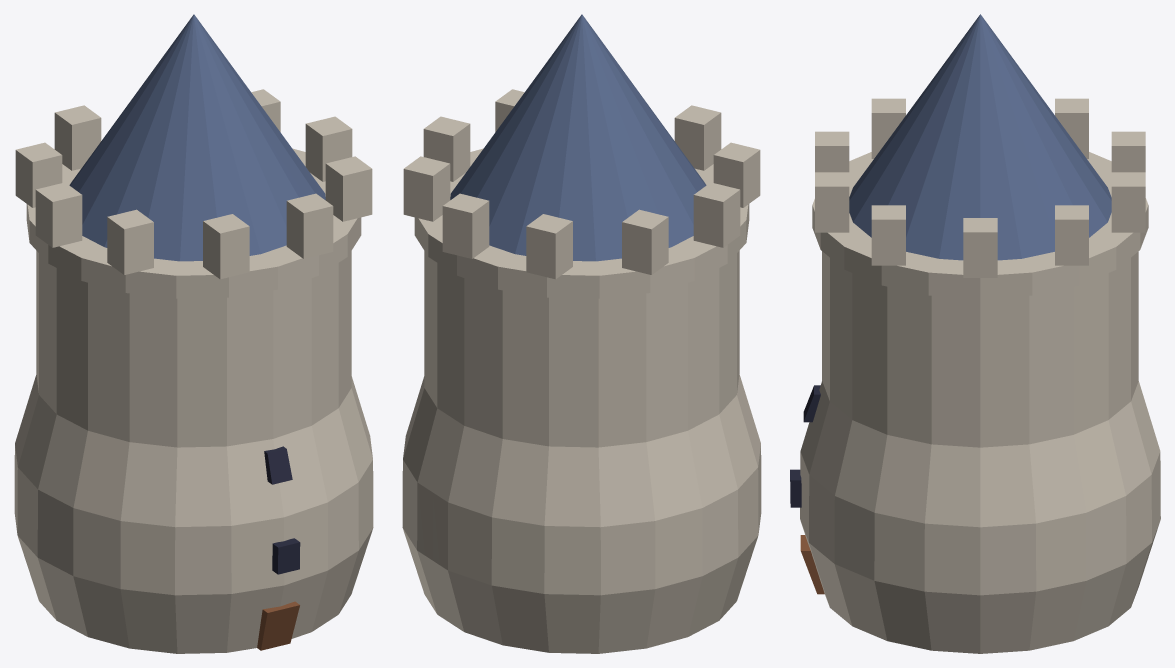
The model's file is round_tower.glb.
The picture shows the model from 3 angles, left to right: view 1: azimuth 30°, elevation 25°; view 2: azimuth 150°, elevation 25°; view 3: azimuth 270°, elevation 25°; orthographic projection.
Visible parts, largest first — view 1: round_tower_stone, round_tower_roof_slate, round_tower_black, round_tower_door; view 2: round_tower_stone, round_tower_roof_slate; view 3: round_tower_stone, round_tower_roof_slate, round_tower_black, round_tower_door.
Part boxes in pixels (box(x1,y1,x2,y2)): round_tower_stone: box(14, 89, 373, 653); round_tower_roof_slate: box(69, 14, 325, 261); round_tower_black: box(264, 446, 300, 574); round_tower_door: box(257, 601, 299, 650); round_tower_stone: box(402, 89, 761, 653); round_tower_roof_slate: box(450, 14, 706, 261); round_tower_stone: box(800, 98, 1160, 653); round_tower_roof_slate: box(849, 14, 1111, 260); round_tower_black: box(790, 385, 820, 507); round_tower_door: box(800, 535, 824, 594).
Size of the model in its own units: 15.4 by 27 by 15.83.
